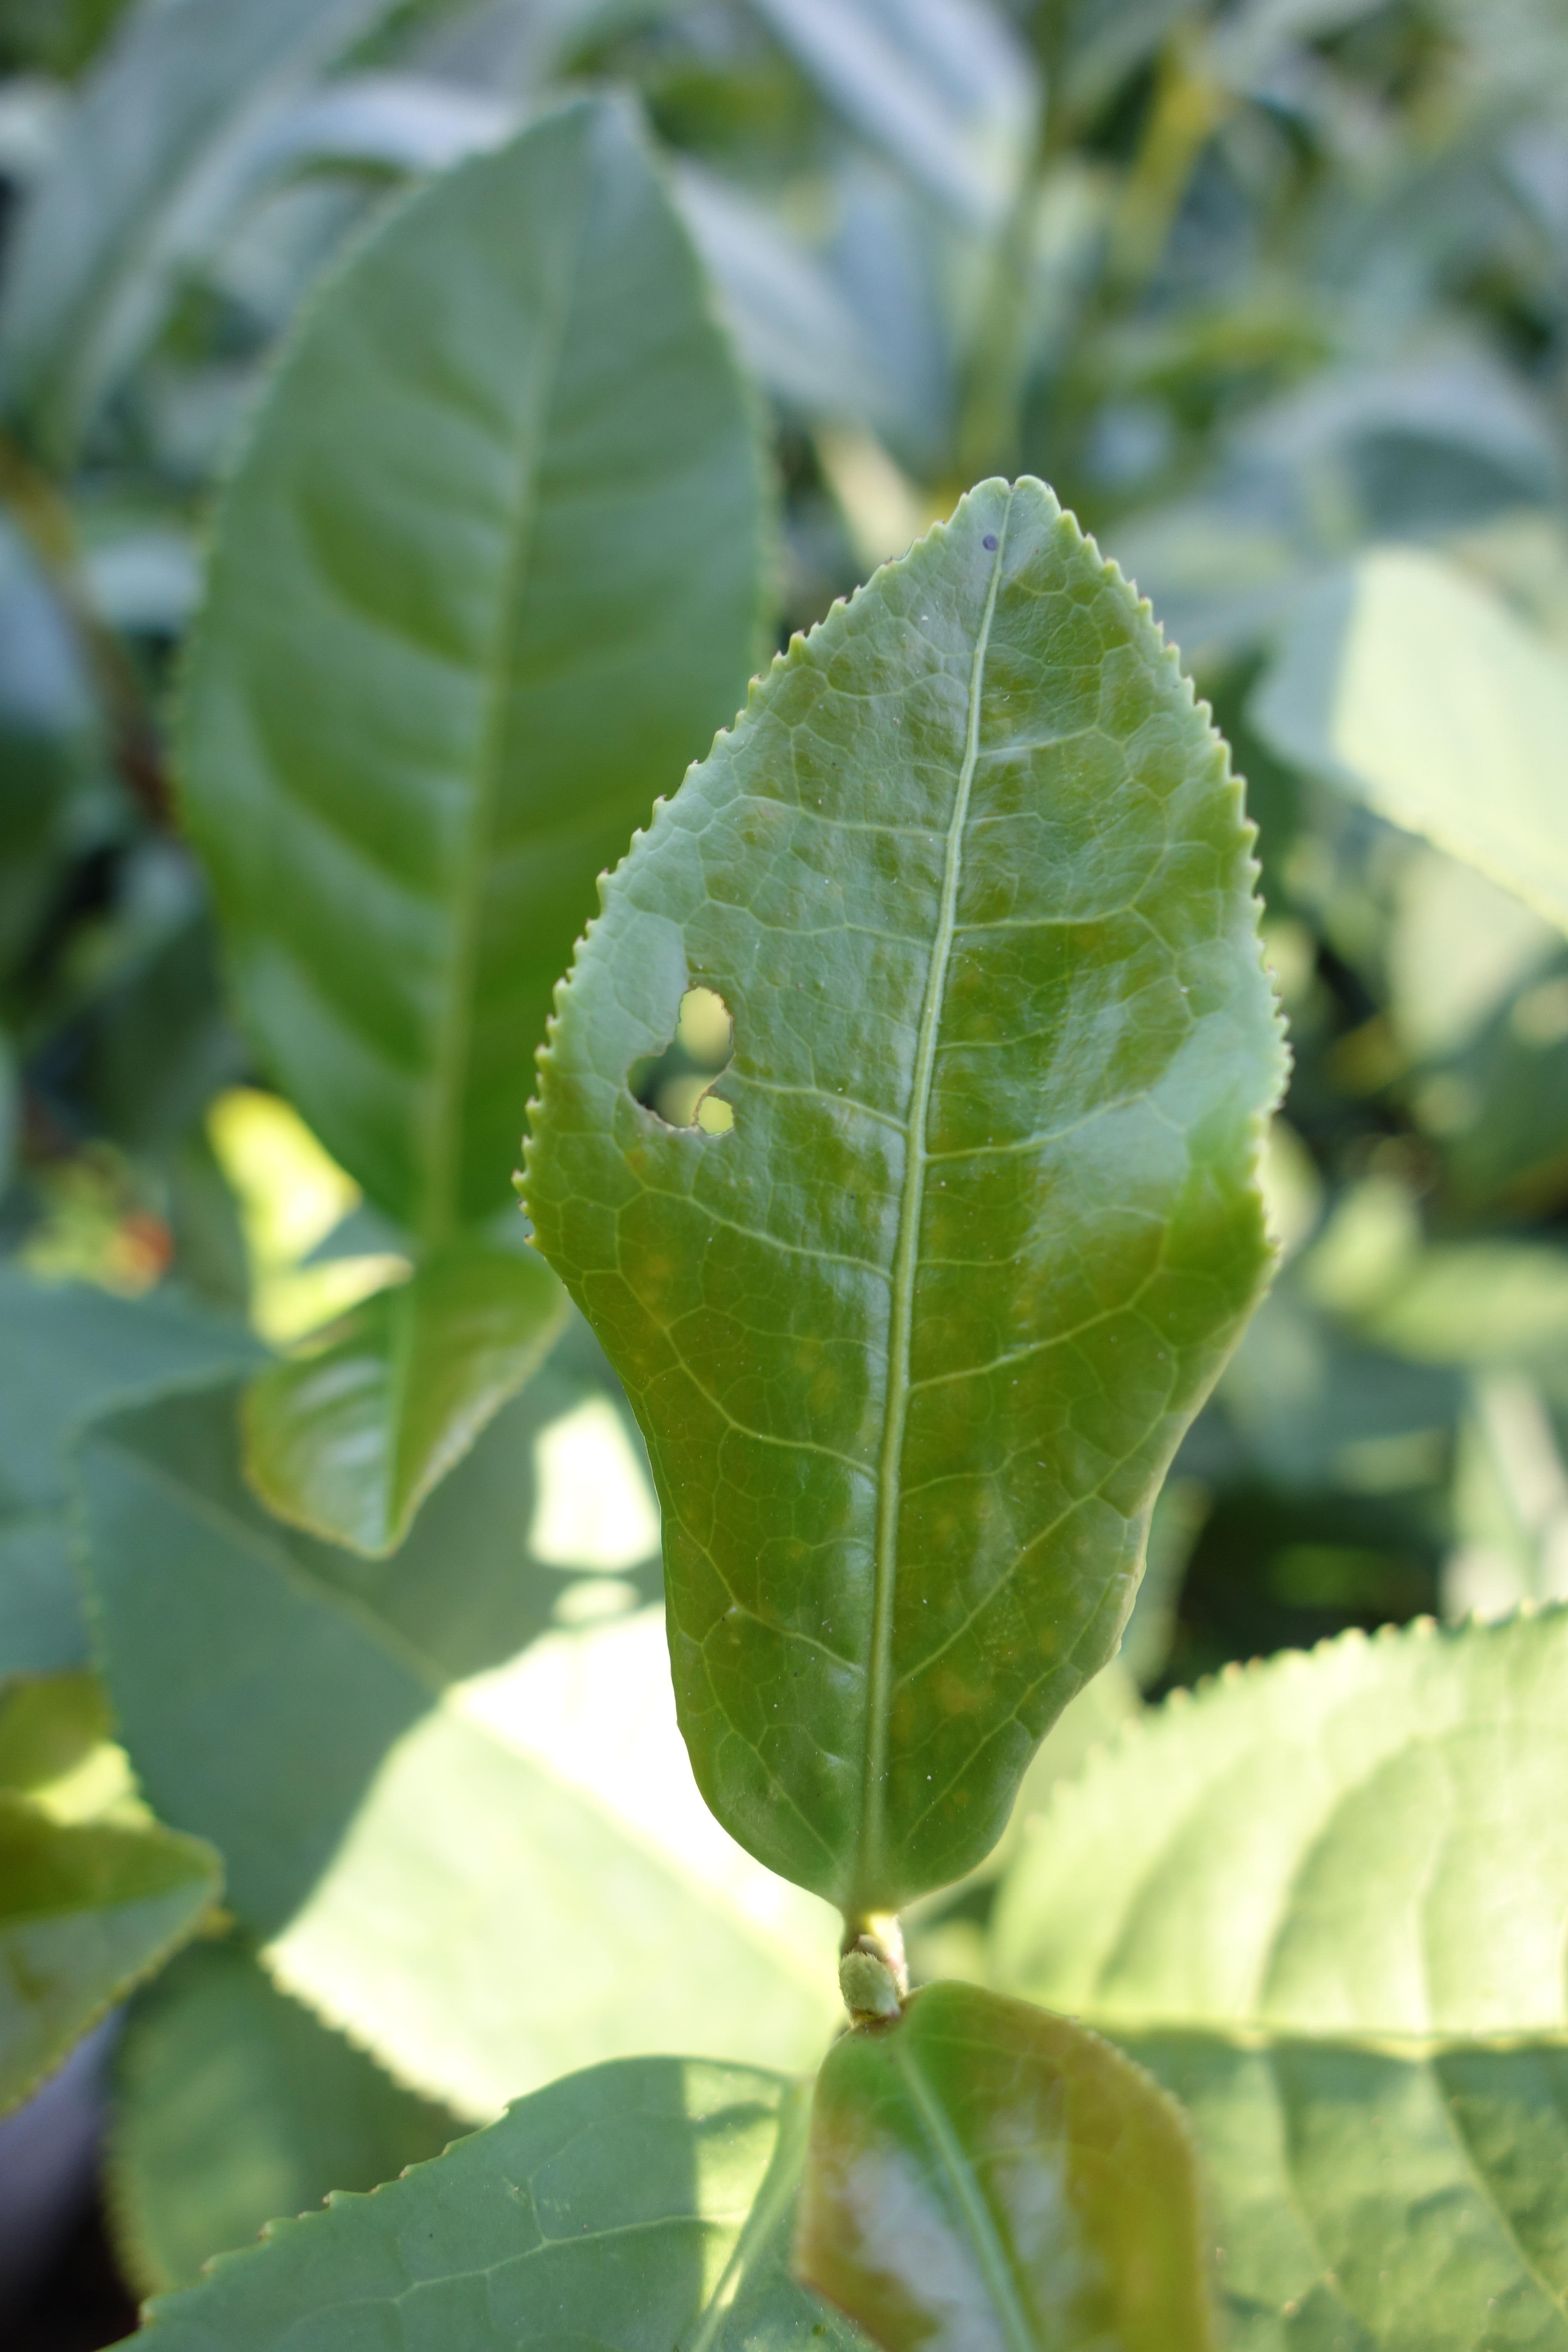chihuo_low: (502, 472, 1295, 1932)
tanju_low: (784, 1984, 1221, 2352)
